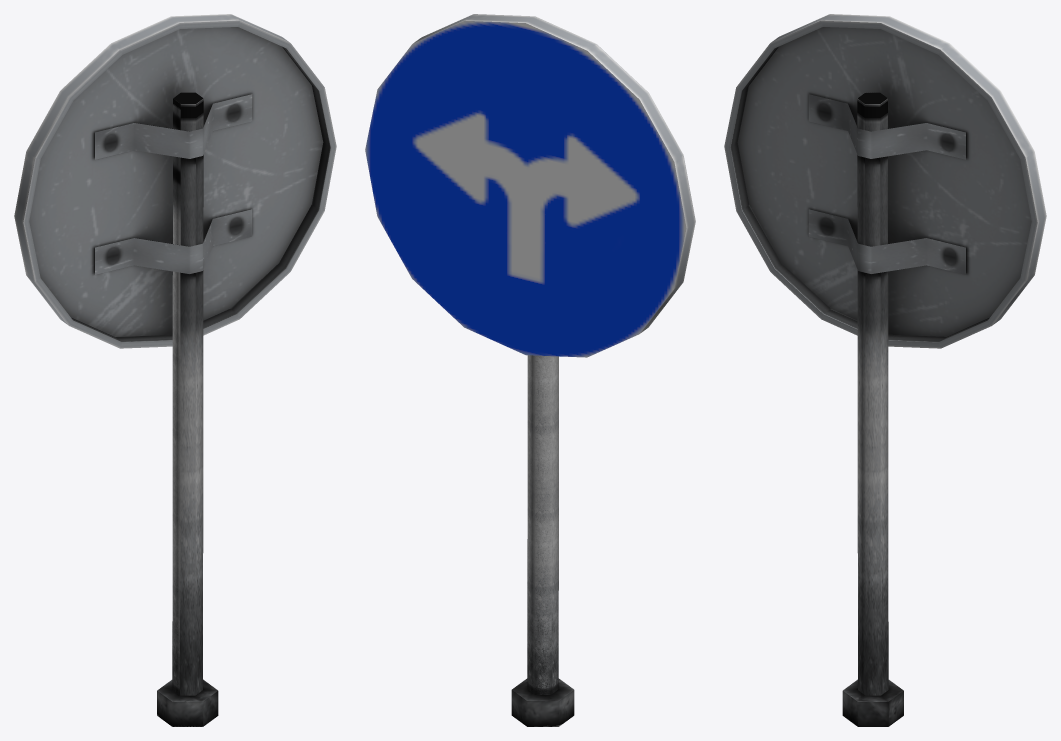
File: TRF0310004.FBX
3 views of the same model, side by side, from view 1: azimuth 30°, elevation 25°; view 2: azimuth 150°, elevation 25°; view 3: azimuth 330°, elevation 25° (orthographic). The views are drawn at different scales.
Parts seen in each view (by area): view 1: smTRF0310004; view 2: smTRF0310004; view 3: smTRF0310004.
Part boxes in pixels (x1,y1,x2,y2): smTRF0310004: (14,14,336,726); smTRF0310004: (365,14,695,726); smTRF0310004: (724,14,1046,726).
Size of the model in its own units: 72.09 by 151 by 12.83.
1 material, 1 textured.
